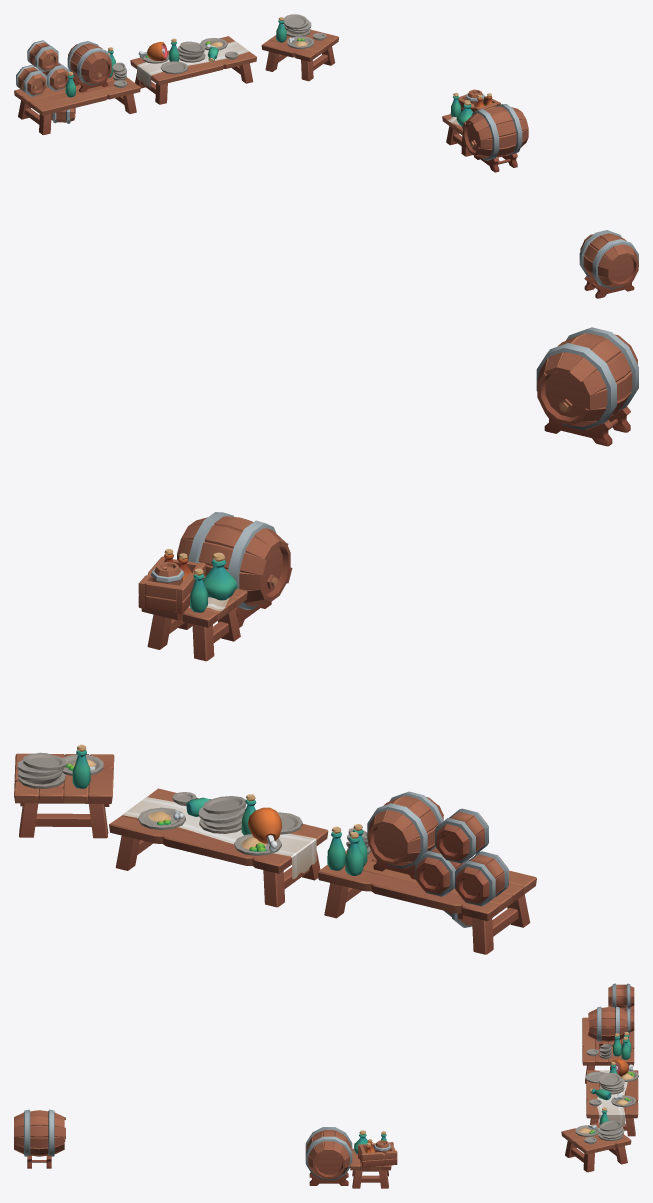
File: Tavern_firstfloor_barprops.glb
3 views of the same model, one above another, from view 1: azimuth 30°, elevation 25°; view 2: azimuth 150°, elevation 25°; view 3: azimuth 270°, elevation 25° (orthographic). The views are drawn at different scales.
Visible parts, largest first — view 1: table_long_decorated_C, keg_decorated, table_long_tablecloth_decorated_A, keg, table_medium_decorated_A; view 2: table_long_decorated_C, keg_decorated, table_long_tablecloth_decorated_A, keg, table_medium_decorated_A; view 3: keg_decorated, table_long_decorated_C, table_long_tablecloth_decorated_A, keg, table_medium_decorated_A.
Part boxes in pixels (<box>): table_long_decorated_C: <box>14,40,140,135</box>; keg_decorated: <box>442,89,528,172</box>; table_long_tablecloth_decorated_A: <box>130,36,256,104</box>; keg: <box>579,230,638,298</box>; table_medium_decorated_A: <box>261,14,338,81</box>; table_long_decorated_C: <box>317,791,536,954</box>; keg_decorated: <box>138,512,292,661</box>; table_long_tablecloth_decorated_A: <box>109,788,328,907</box>; keg: <box>536,327,638,446</box>; table_medium_decorated_A: <box>14,744,114,838</box>; keg_decorated: <box>305,1127,397,1188</box>; table_long_decorated_C: <box>582,983,634,1083</box>; table_long_tablecloth_decorated_A: <box>585,1059,638,1136</box>; keg: <box>14,1109,65,1168</box>; table_medium_decorated_A: <box>561,1107,631,1172</box>.
Bounding box in the file's own units: 13.72 × 2.77 × 24.02.
1 material, 1 textured.
